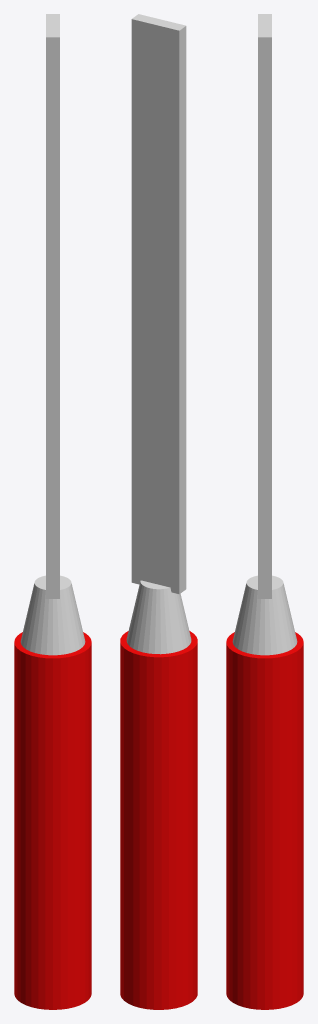
Rendered from Nadfile.fbx.
3 views of the same model, side by side, from view 1: azimuth 90°, elevation 25°; view 2: azimuth 150°, elevation 25°; view 3: azimuth 270°, elevation 25° (orthographic).
Visible parts, largest first — view 1: Handle, Nadfil, Neck; view 2: Nadfil, Handle, Neck; view 3: Handle, Nadfil, Neck.
Boxes of the visible parts, x1,y1,x2,y2 form: Handle: (14, 632, 91, 1009); Nadfil: (46, 14, 59, 598); Neck: (20, 575, 85, 655); Nadfil: (131, 14, 186, 594); Handle: (120, 631, 197, 1009); Neck: (126, 580, 191, 654); Handle: (226, 632, 303, 1009); Nadfil: (258, 14, 271, 598); Neck: (232, 575, 297, 655).
Size of the model in its own units: 0.5623 by 7.75 by 0.5623.
